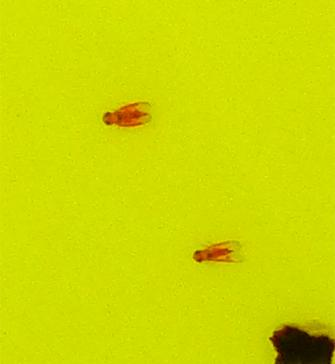Hemiptera: (100, 100, 151, 130), (190, 240, 235, 264)
